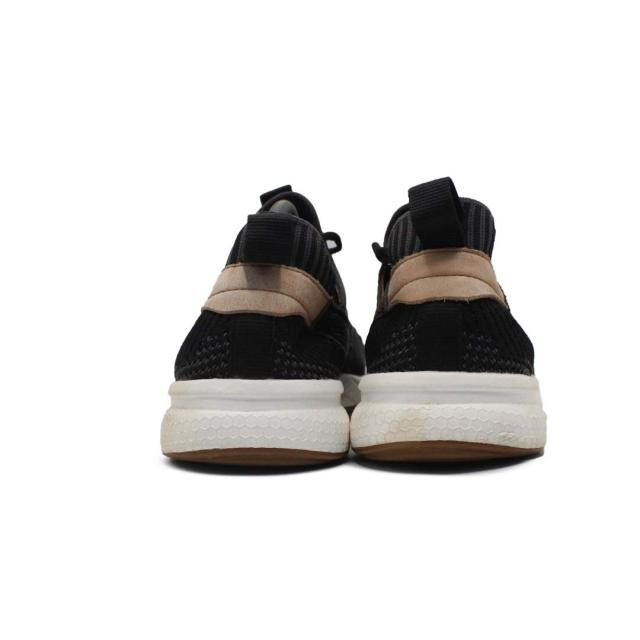heel: (359, 176, 543, 372), (178, 184, 339, 380)
midsole: (166, 384, 557, 471)
